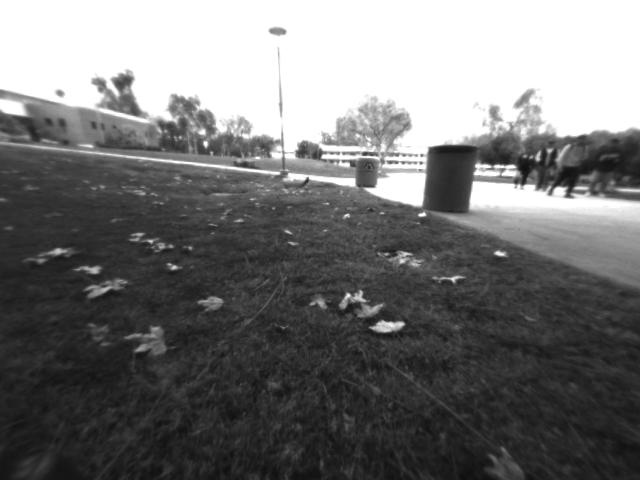trashcan: (416, 136, 482, 216), (351, 148, 385, 196)
